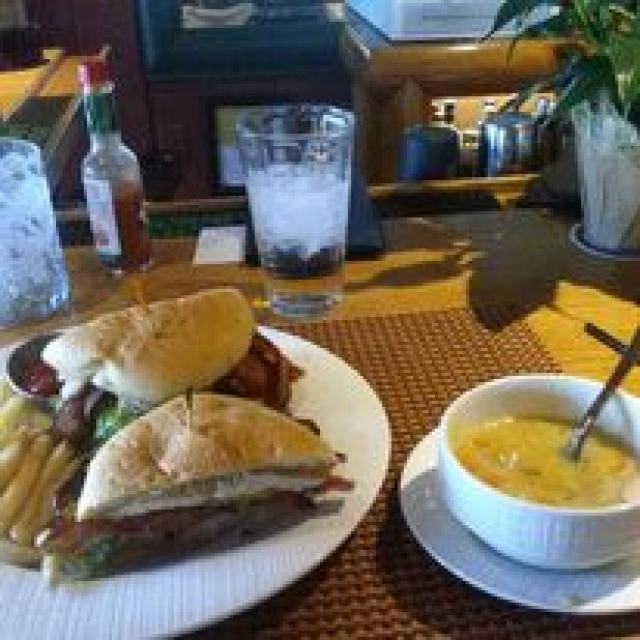Sandwich: (59, 289, 342, 541)
